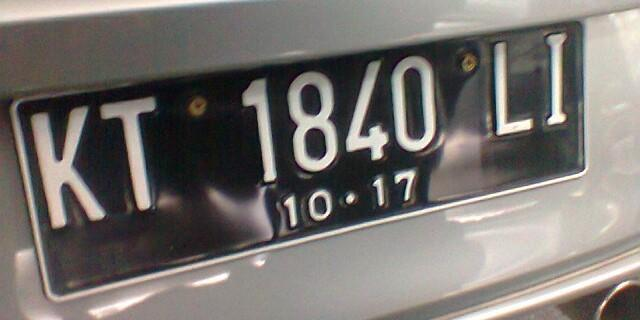0: (386, 43, 447, 158)
1: (235, 71, 287, 190)
4: (332, 52, 399, 169)
8: (278, 63, 350, 179)
I: (537, 26, 576, 134)
K: (20, 98, 119, 237)
L: (482, 32, 541, 144)
T: (88, 87, 184, 219)
